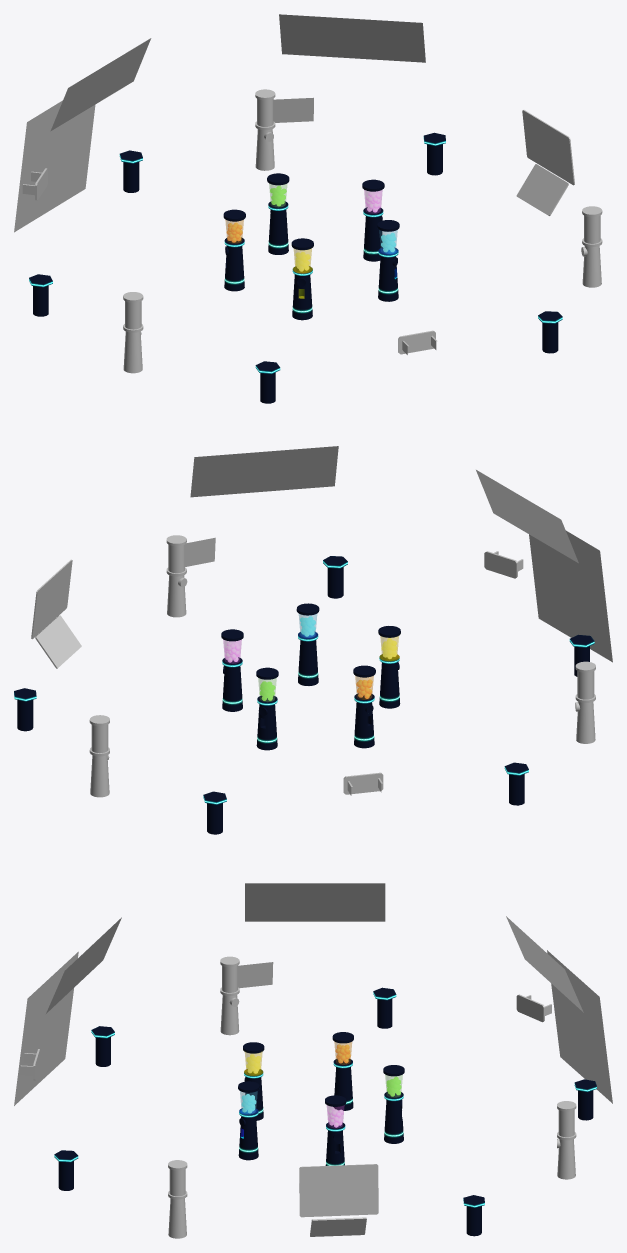
File: roomProps.gltf
The picture shows the model from 3 angles, top to bottom: view 1: azimuth 30°, elevation 25°; view 2: azimuth 150°, elevation 25°; view 3: azimuth 270°, elevation 25°; orthographic projection. The views are drawn at different scales.
Parts seen in each view (by area): view 1: room theta neuronGate, room visualizer_transform10 delta pPlane4, room theta theta, room new_props1 pCube12, room pCube13 new_props1, room visualizer_transform10 delta pPlane2 suction_tube, room h3, room h, room h4, room h1, room h2, room visualizer visualizer_transform5 alpha pCylinder40 (+3 smaller); view 2: room beta neuronGate, room visualizer_transform8 gamma pPlane3, room beta beta, room new_props1 pCube12, room pCube13 new_props1, room h1, room h4, room h2, room h3, room h, room new_props1 coming_soon1, room visualizer visualizer_transform10 delta pCylinder40 (+4 smaller); view 3: room visualizer_transform5 alpha pPlane3, room theta neuronGate, room beta neuronGate, room new_props1 pCube12, room theta theta, room beta beta, room pCube13 new_props1, room visualizer_transform5 alpha pPlane2 suction_tube, room h3, room h4, room visualizer visualizer_transform8 gamma pCylinder40, room visualizer visualizer_transform10 delta pCylinder40 (+4 smaller).
Boxes of the visible parts, x1,y1,x2,y2 form: room theta neuronGate: (14, 100, 95, 232); room visualizer_transform10 delta pPlane4: (279, 14, 425, 62); room theta theta: (50, 38, 151, 131); room new_props1 pCube12: (522, 110, 574, 185); room pCube13 new_props1: (516, 164, 568, 215); room visualizer_transform10 delta pPlane2 suction_tube: (273, 97, 313, 122); room h3: (268, 210, 288, 254); room h: (224, 246, 244, 291); room h4: (378, 256, 398, 301); room h1: (292, 274, 312, 320); room h2: (363, 216, 382, 261); room visualizer visualizer_transform5 alpha pCylinder40: (123, 331, 142, 373); room beta neuronGate: (529, 530, 612, 662); room visualizer_transform8 gamma pPlane3: (190, 446, 338, 497); room beta beta: (476, 470, 578, 563); room new_props1 pCube12: (31, 559, 72, 639); room pCube13 new_props1: (35, 615, 81, 668); room h1: (379, 662, 400, 708); room h4: (298, 640, 318, 685); room h2: (222, 666, 242, 711); room h3: (256, 704, 277, 750); room h: (354, 702, 374, 748); room new_props1 coming_soon1: (343, 772, 383, 795); room visualizer visualizer_transform10 delta pCylinder40: (90, 755, 109, 797); room visualizer_transform5 alpha pPlane3: (245, 883, 385, 921); room theta neuronGate: (547, 950, 612, 1103); room beta neuronGate: (14, 951, 78, 1105); room new_props1 pCube12: (299, 1164, 378, 1217); room theta theta: (506, 916, 583, 1012); room beta beta: (46, 917, 121, 1013); room pCube13 new_props1: (310, 1217, 366, 1236); room visualizer_transform5 alpha pPlane2 suction_tube: (238, 962, 273, 988); room h3: (384, 1100, 403, 1143); room h4: (238, 1116, 258, 1160); room visualizer visualizer_transform8 gamma pCylinder40: (168, 1198, 186, 1238); room visualizer visualizer_transform10 delta pCylinder40: (557, 1139, 575, 1179).
Size of the model in its own units: 14.62 by 4.39 by 15.49.
